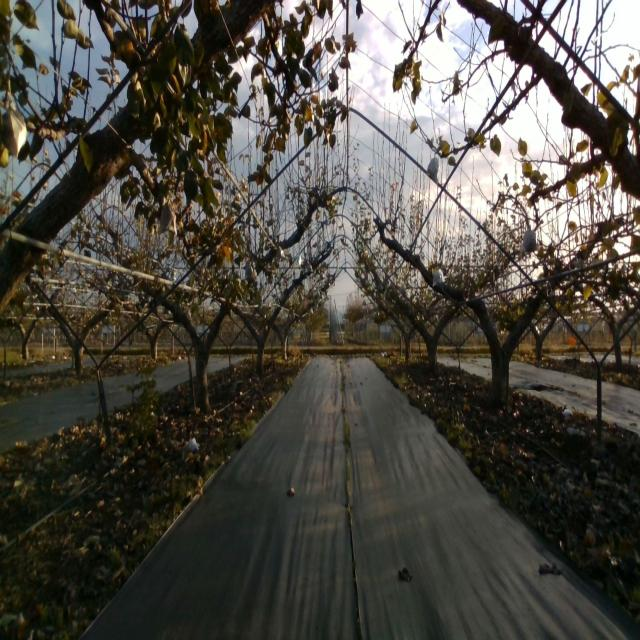pearbags: (1, 93, 28, 161), (158, 198, 176, 234), (520, 227, 537, 254), (426, 153, 439, 183), (432, 266, 446, 288), (244, 264, 255, 283)
